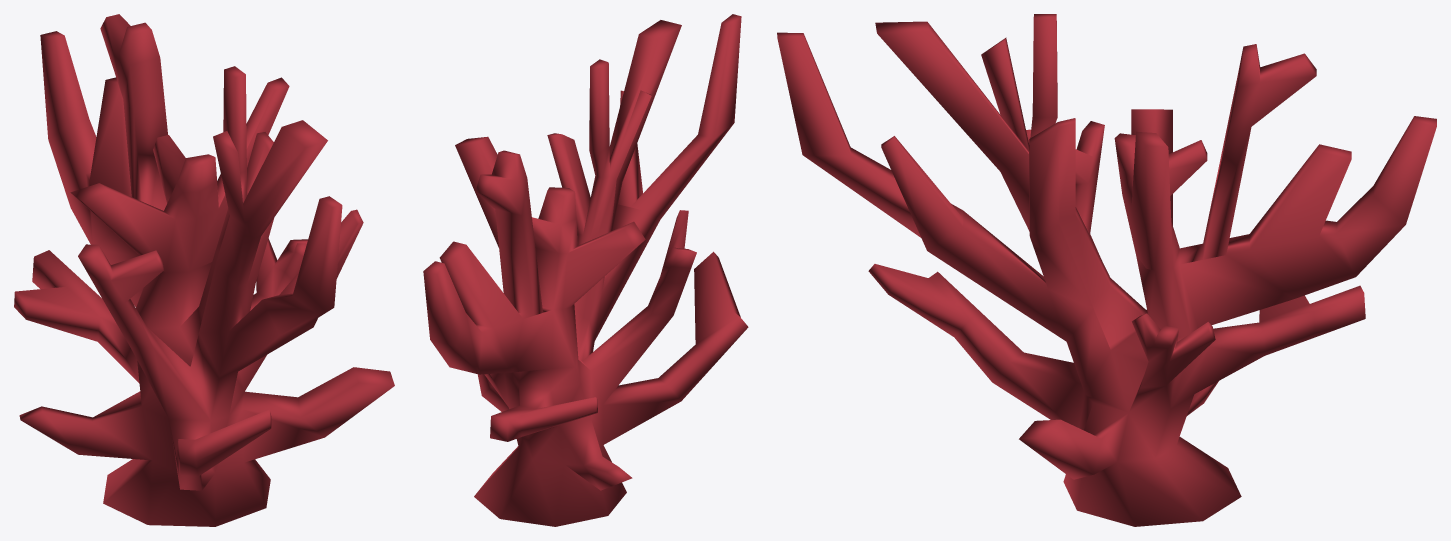
The model's file is G_Coral_Red.gltf.
3 views of the same model, side by side, from view 1: azimuth 30°, elevation 25°; view 2: azimuth 150°, elevation 25°; view 3: azimuth 270°, elevation 25° (orthographic). The views are drawn at different scales.
Parts seen in each view (by area): view 1: Cylinder; view 2: Cylinder; view 3: Cylinder.
Part boxes in pixels (x1,y1,x2,y2): Cylinder: [14, 14, 394, 526]; Cylinder: [423, 14, 748, 526]; Cylinder: [777, 14, 1436, 526].
Bounding box in the file's own units: 2.14 × 3.25 × 4.13.
